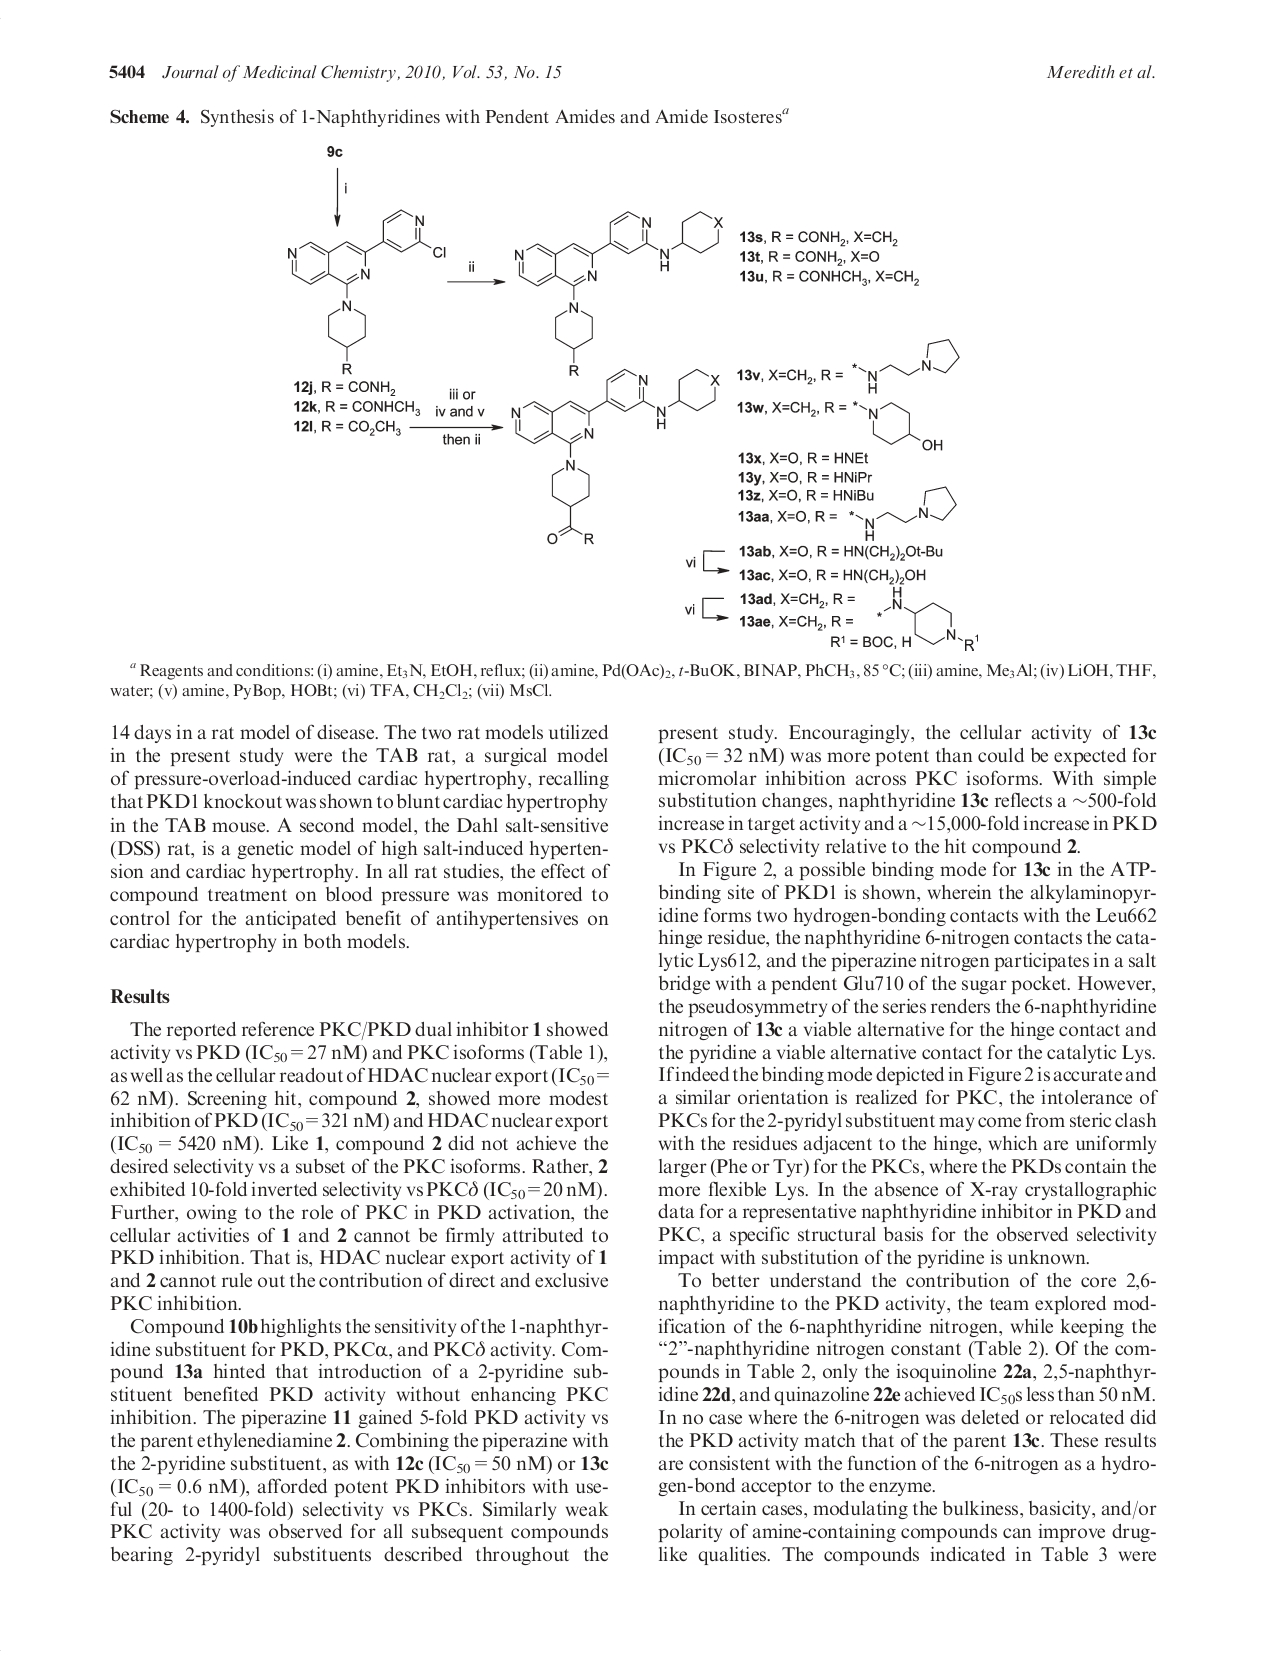exist_molecular: (508, 364, 721, 545), (516, 207, 733, 376), (285, 205, 455, 375), (864, 571, 981, 658), (842, 330, 976, 402), (850, 479, 967, 545), (842, 394, 948, 453)
